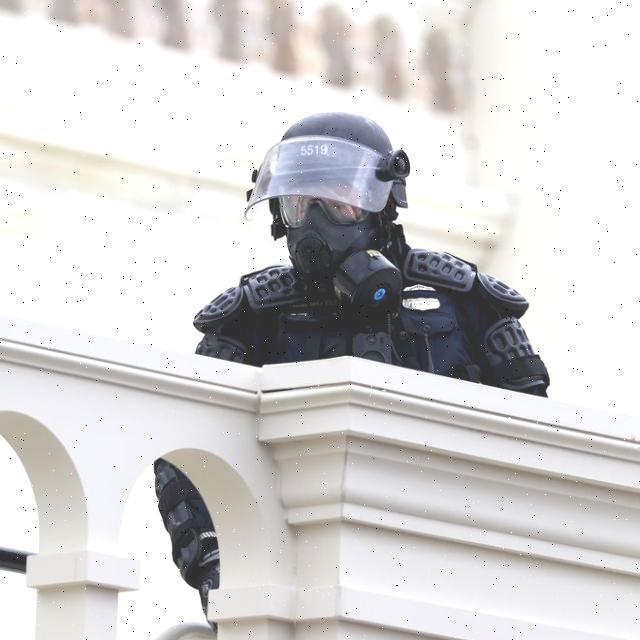police: (137, 81, 553, 614)
